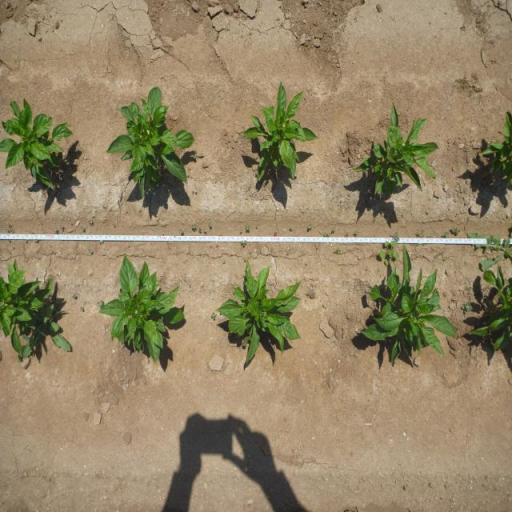plant: (106, 86, 194, 199), (361, 263, 454, 368), (102, 254, 188, 364), (216, 258, 304, 364), (352, 102, 439, 202), (240, 80, 322, 182), (0, 95, 75, 193), (0, 257, 53, 358), (471, 270, 512, 351), (478, 109, 512, 192)
weed: (15, 275, 72, 362), (468, 230, 512, 272), (378, 240, 400, 266), (461, 299, 473, 314), (189, 150, 204, 160), (416, 229, 426, 238), (391, 232, 400, 241), (452, 226, 461, 234), (97, 298, 103, 310), (442, 230, 450, 238), (334, 247, 342, 255), (6, 225, 14, 233), (323, 231, 331, 238), (240, 240, 248, 247), (211, 311, 216, 321), (245, 224, 250, 232), (354, 230, 360, 236), (72, 294, 78, 300), (80, 226, 86, 232), (344, 231, 349, 238), (191, 224, 198, 229), (331, 226, 336, 232), (308, 223, 313, 229), (88, 249, 94, 254), (80, 306, 85, 312), (198, 226, 202, 232), (180, 228, 184, 234), (98, 240, 104, 244), (88, 220, 94, 224), (60, 225, 64, 230), (209, 222, 212, 228), (54, 228, 58, 232), (34, 239, 38, 243), (240, 228, 242, 234), (290, 226, 292, 230), (204, 229, 206, 232), (113, 224, 116, 226)
